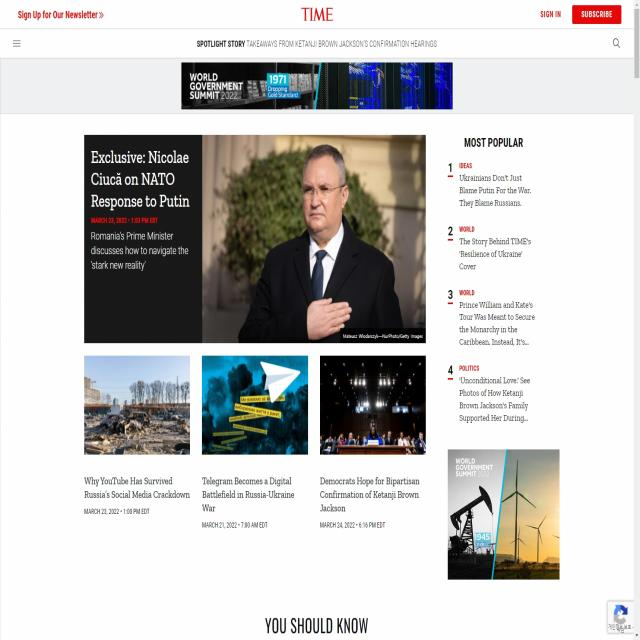menu-bar: (534, 2, 624, 28)
menu-panel: (189, 30, 442, 51)
